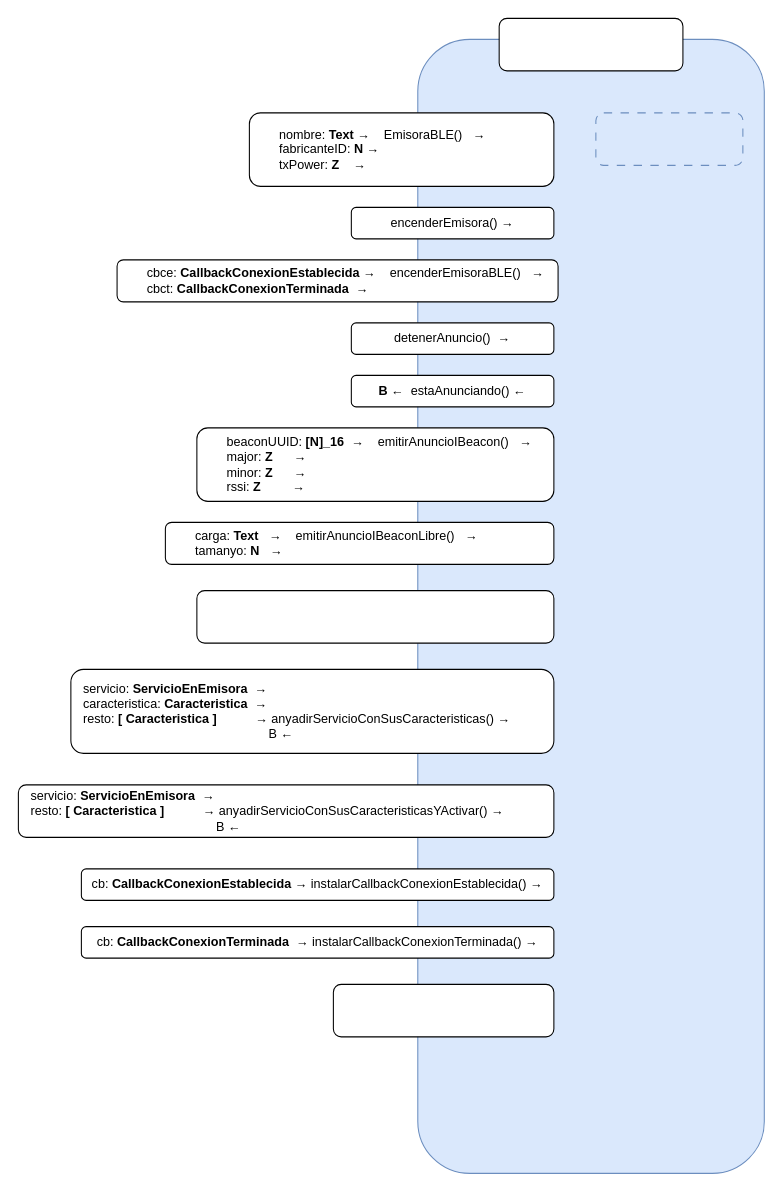
Image size: 783x1192. Some labels were removed from this diagram. Here are the shapes that lost their labels. From the top down, the box of each, then its label:
(498, 17, 683, 71): EmisoraBLE
(595, 112, 743, 165): nombreEmisora: Text fabricanteID: N txPower: Z
(196, 590, 554, 643): servicio: ServicioEnEmisora → anyadirServicio() → B ← →
(332, 983, 554, 1037): connHandle: N → getConexion() ← _Conexion ←
